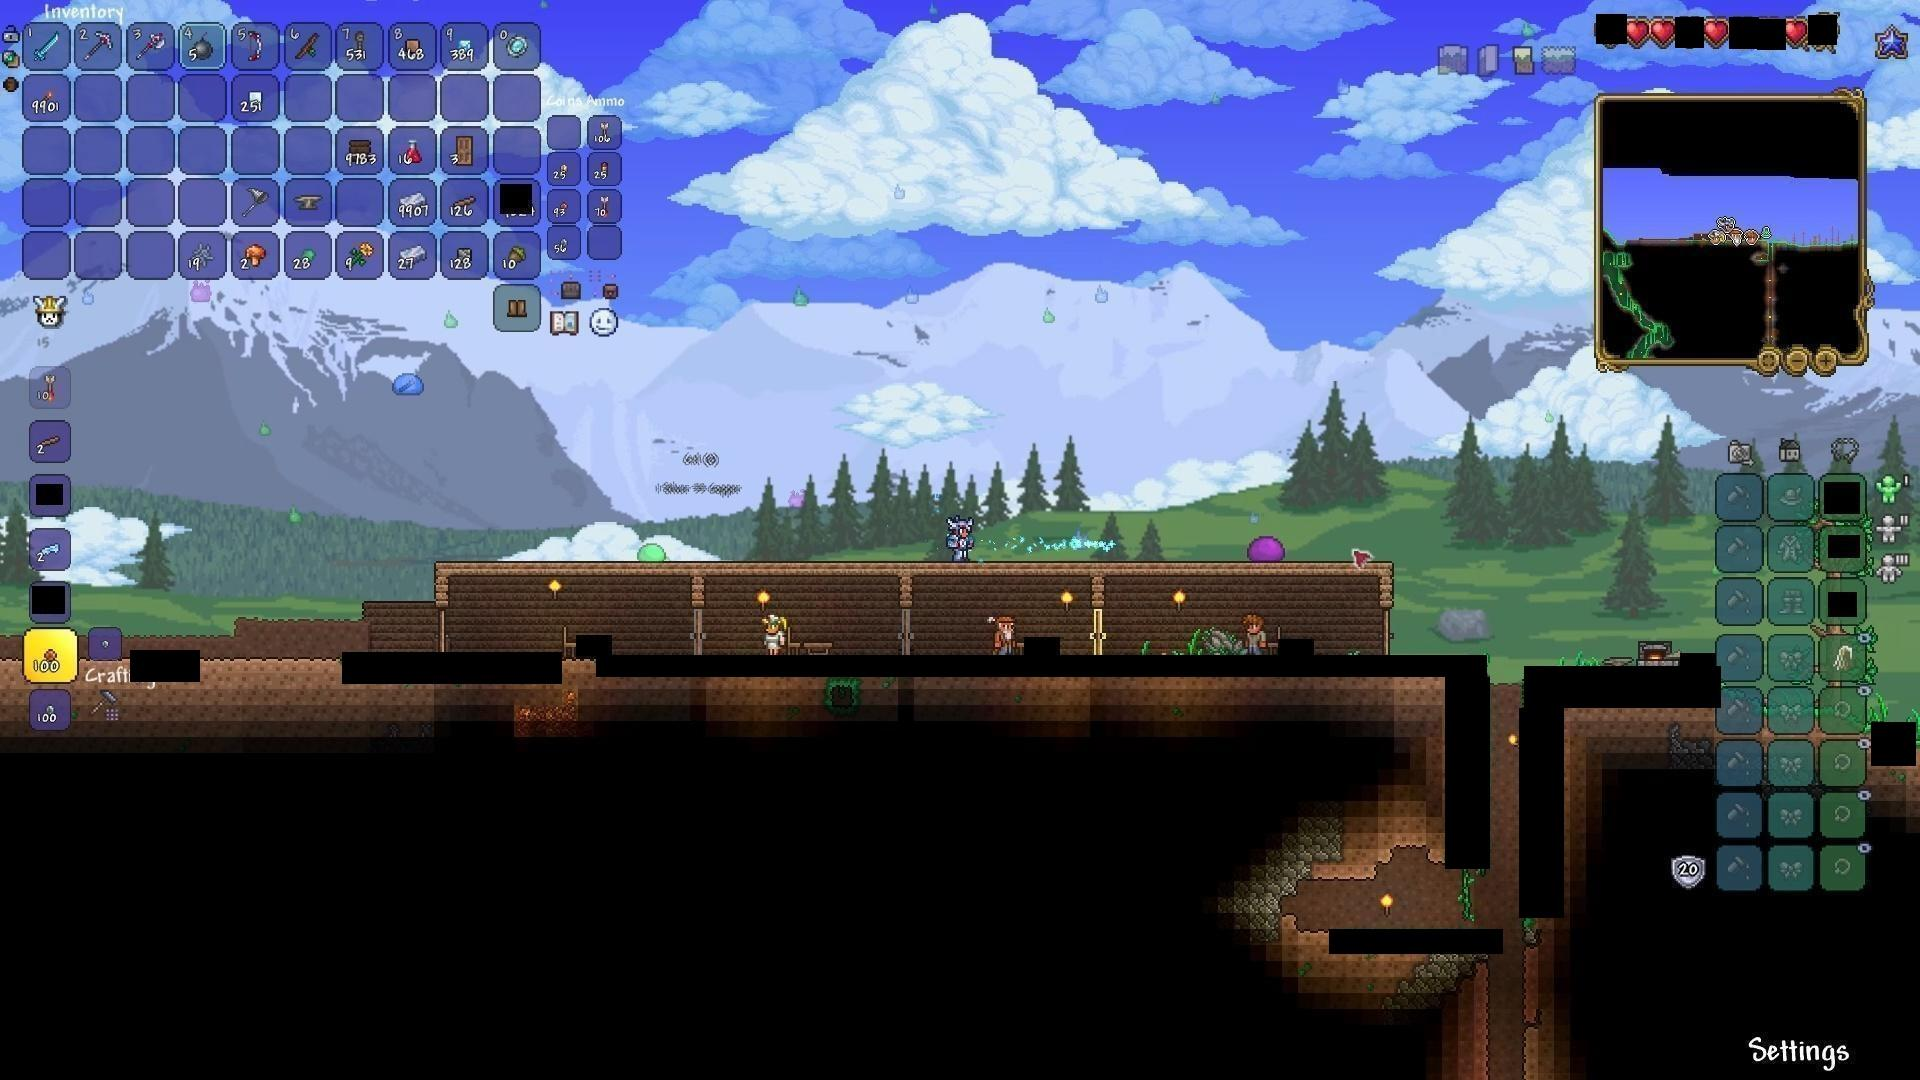heart: (1702, 17, 1731, 49), (1648, 17, 1677, 47), (1783, 18, 1811, 47), (1625, 17, 1652, 46)
legs: (506, 291, 531, 319)
slime: (1245, 534, 1284, 566), (389, 371, 429, 400), (633, 539, 669, 564)
workbench: (800, 638, 835, 661)
